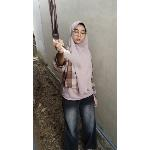Pisau: (50, 38, 84, 72)
